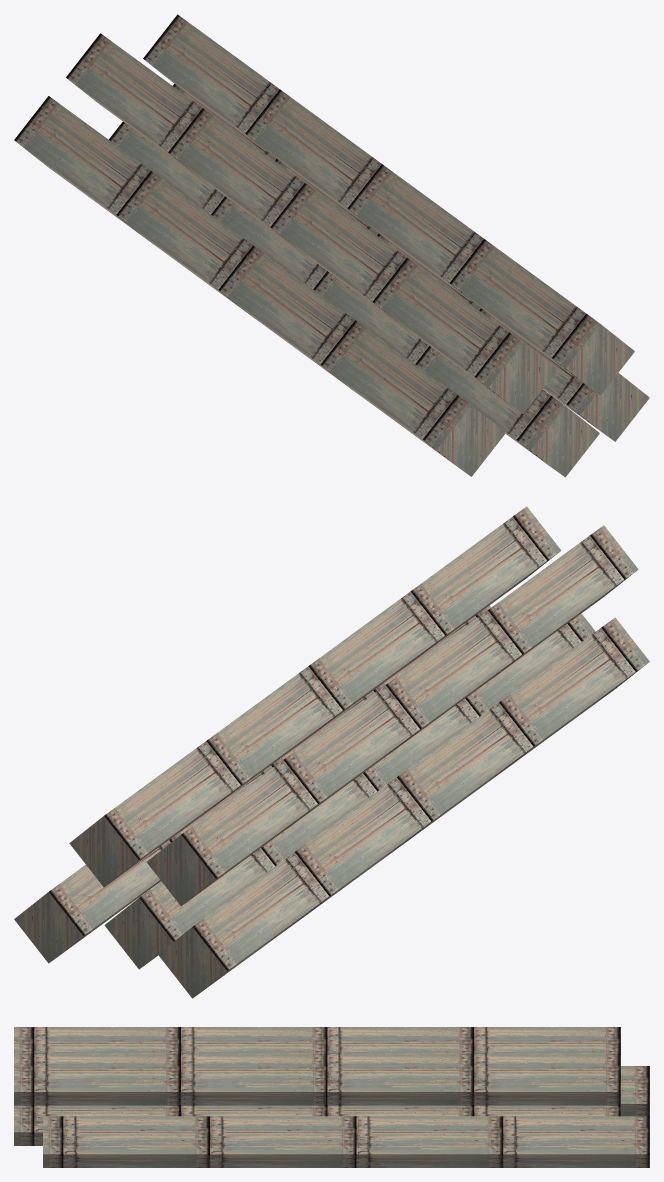
Rendered from pipes_lod.fbx.
3 views of the same model, one above another, from view 1: azimuth 30°, elevation 25°; view 2: azimuth 150°, elevation 25°; view 3: azimuth 270°, elevation 25° (orthographic). The views are drawn at different scales.
Visible parts, largest first — view 1: Mesh Object; view 2: Mesh Object; view 3: Mesh Object.
Boxes of the visible parts, x1,y1,x2,y2 form: Mesh Object: (14,14,649,477); Mesh Object: (14,506,649,998); Mesh Object: (14,1027,649,1167).
Size of the model in its own units: 3.04 by 1.98 by 10.94.
